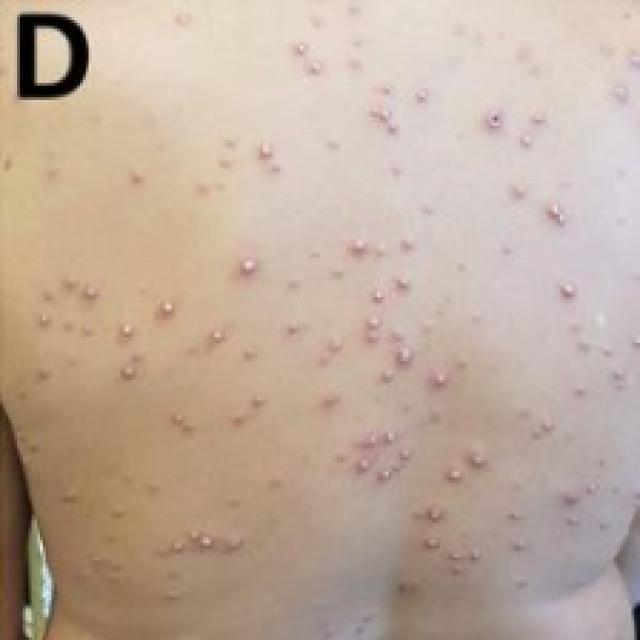Eczema: (42, 49, 590, 586)
